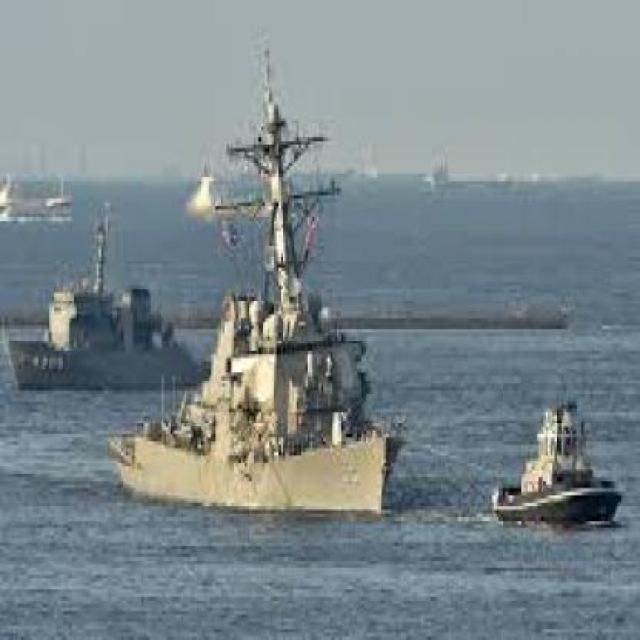warship2: (109, 44, 426, 544), (11, 210, 194, 395)
